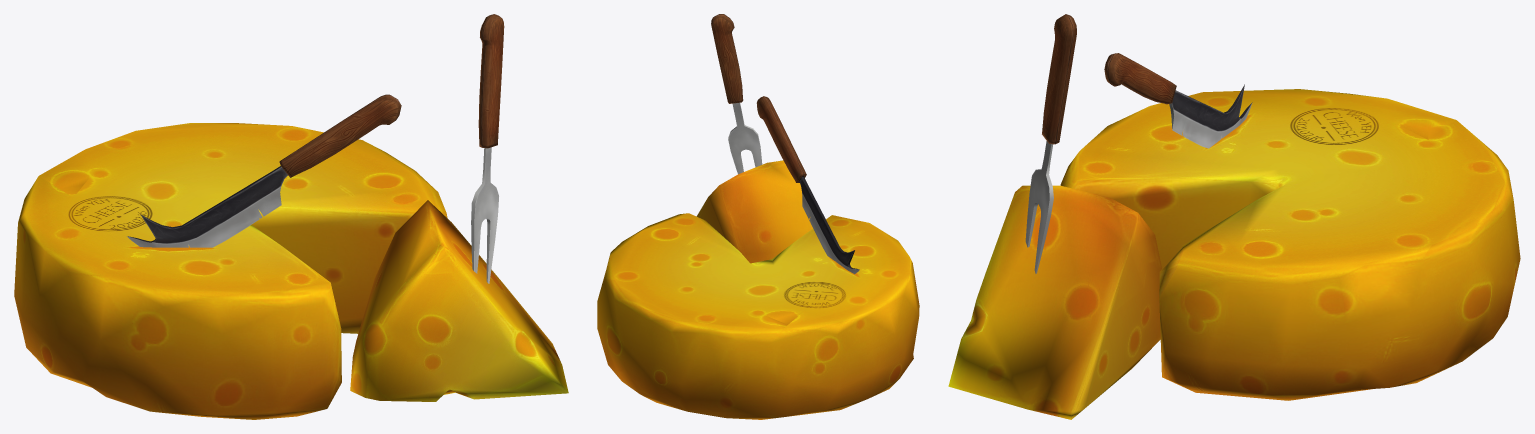
The picture shows the model from 3 angles, left to right: view 1: azimuth 30°, elevation 25°; view 2: azimuth 150°, elevation 25°; view 3: azimuth 270°, elevation 25°; orthographic projection. The views are drawn at different scales.
Parts seen in each view (by area): view 1: cheese_1, cheese_2, knife, fork; view 2: cheese_1, cheese_2, fork, knife; view 3: cheese_1, cheese_2, knife, fork.
Part boxes in pixels (left/top/right/bottom): cheese_1: left=14, top=123, right=447, bottom=419; cheese_2: left=350, top=200, right=568, bottom=401; knife: left=127, top=94, right=401, bottom=247; fork: left=471, top=14, right=504, bottom=283; cheese_1: left=597, top=213, right=919, bottom=419; cheese_2: left=696, top=160, right=812, bottom=263; fork: left=711, top=14, right=762, bottom=174; knife: left=756, top=96, right=859, bottom=274; cheese_1: left=1060, top=89, right=1520, bottom=400; cheese_2: left=948, top=185, right=1161, bottom=419; knife: left=1104, top=53, right=1252, bottom=148; fork: left=1025, top=14, right=1076, bottom=273.
Bounding box in the file's own units: 12.92 × 10.75 × 14.81.
2 materials, 2 textured.
